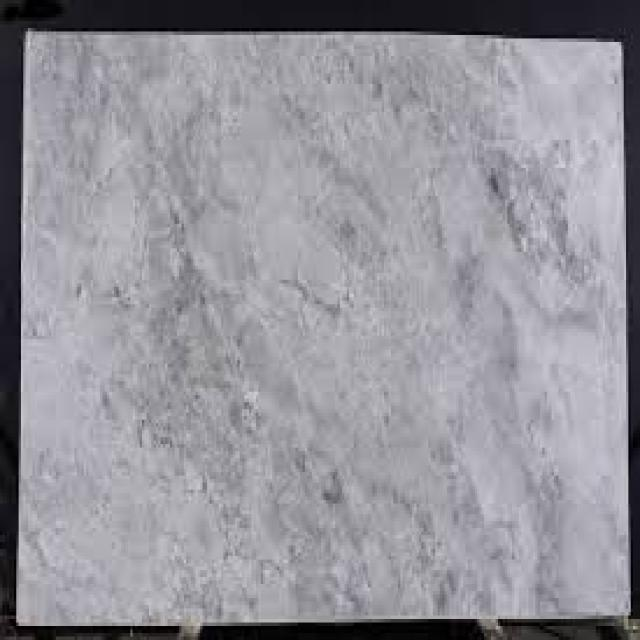Metamorphic: (23, 25, 626, 612)
